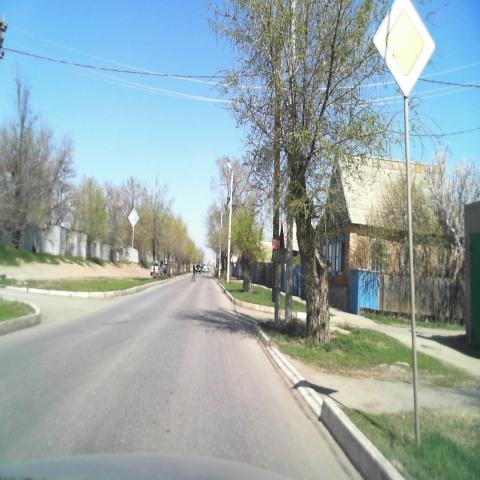2_1: (371, 0, 437, 101)
